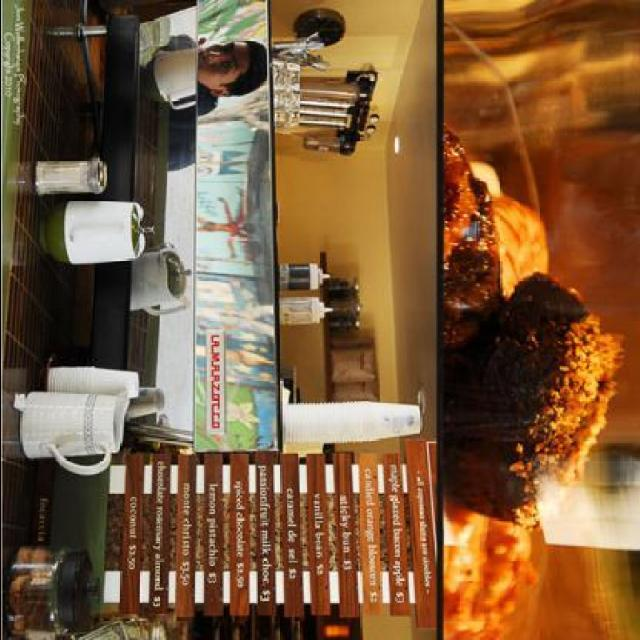Donuts: (438, 108, 616, 550)
